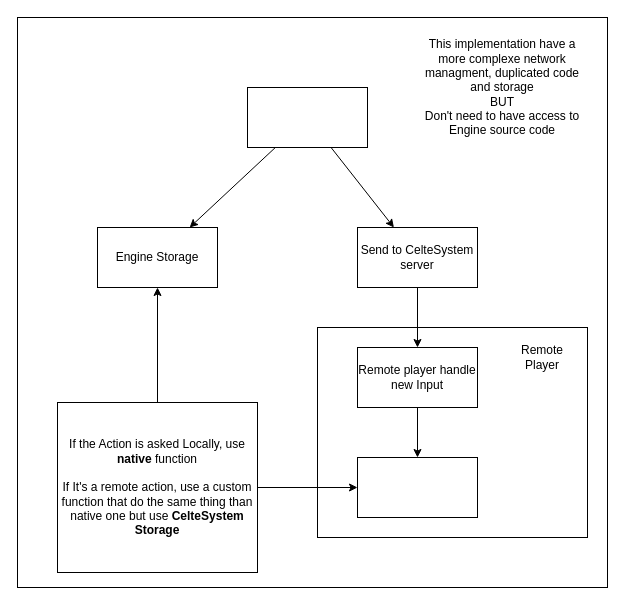
Image size: 625x605. Some labels were removed from this diagram. The shapes that lost their labels are listed below. From the top down, each one's centre as x and y in pixels, then its label:
point 307,117: Local Input (ex: "A" key press)
point 417,487: CelteSystem Storage
